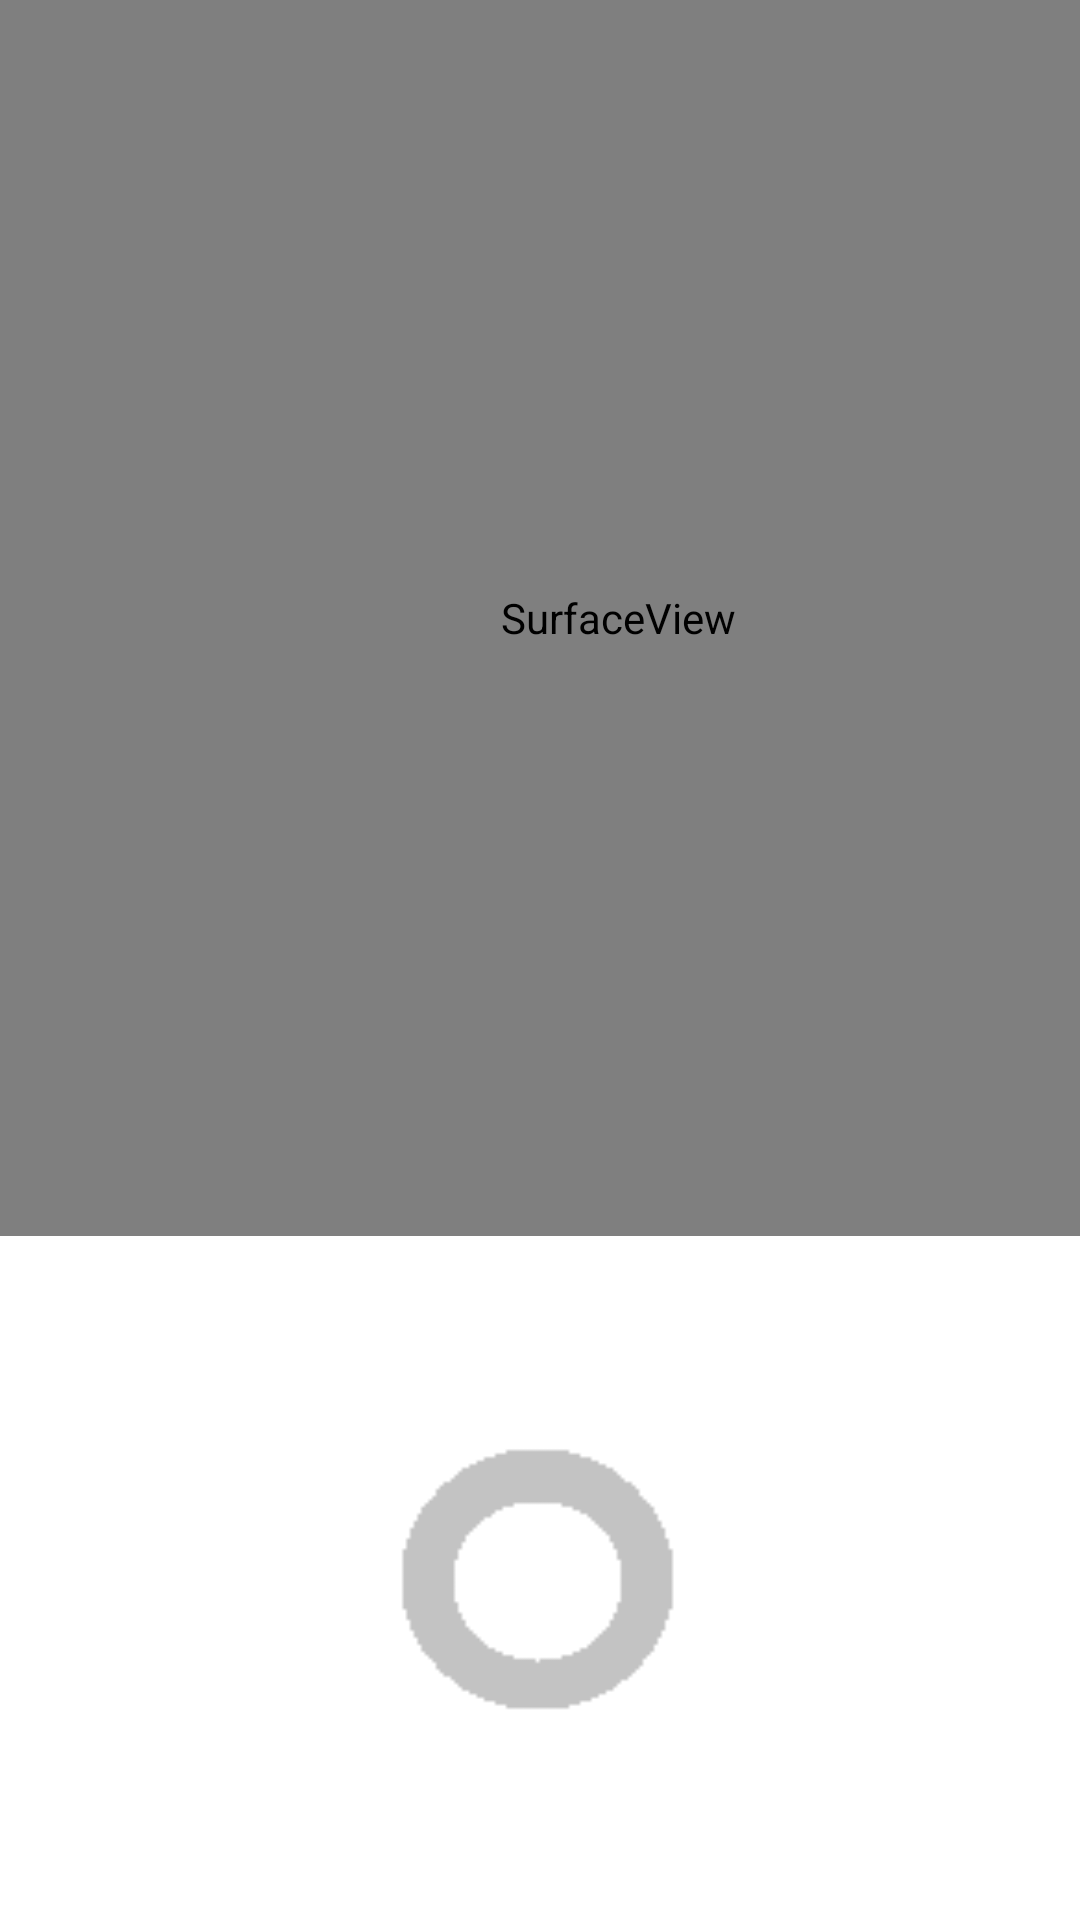

Icon bounding boxes for this 1080*1920 phone screenshot, format (x1, y1, x2, y2):
camerabutton: (402, 1450, 673, 1709)
